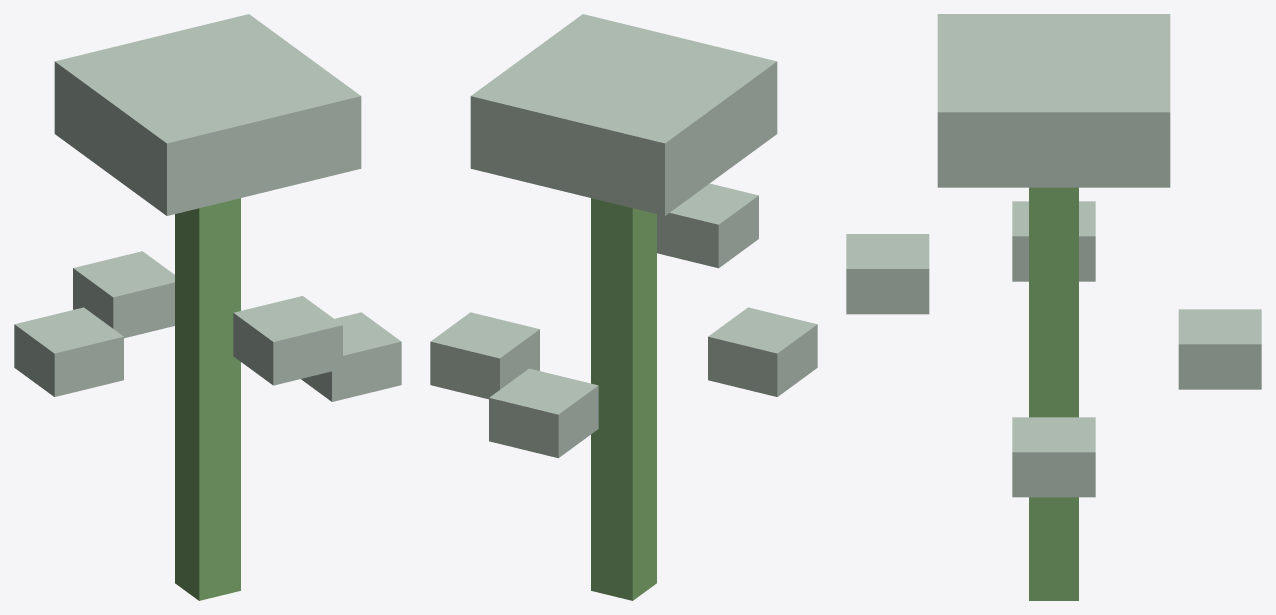
The model's file is Prop_DS_Herb_ArchiveSage_S3_V1.glb.
3 renders of one model, left to right at view 1: azimuth 30°, elevation 25°; view 2: azimuth 150°, elevation 25°; view 3: azimuth 270°, elevation 25°, orthographic. The views are drawn at different scales.
Parts seen in each view (by area): view 1: Cube.005, Cube, Cube.004, Cube.003, Cube.002, Cube.001; view 2: Cube.005, Cube, Cube.003, Cube.002, Cube.001, Cube.004; view 3: Cube.005, Cube, Cube.001, Cube.002, Cube.004, Cube.003.
Boxes of the visible parts, left/top/right/bottom form: Cube.005: left=54, top=14, right=361, bottom=215; Cube: left=175, top=198, right=240, bottom=600; Cube.004: left=233, top=296, right=342, bottom=385; Cube.003: left=14, top=307, right=123, bottom=396; Cube.002: left=73, top=251, right=174, bottom=338; Cube.001: left=301, top=312, right=401, bottom=401; Cube.005: left=470, top=14, right=777, bottom=215; Cube: left=591, top=198, right=656, bottom=600; Cube.003: left=708, top=307, right=817, bottom=396; Cube.002: left=489, top=368, right=598, bottom=458; Cube.001: left=430, top=312, right=539, bottom=399; Cube.004: left=657, top=183, right=758, bottom=268; Cube.005: left=937, top=14, right=1170, bottom=187; Cube: left=1029, top=187, right=1078, bottom=600; Cube.001: left=1012, top=417, right=1095, bottom=497; Cube.002: left=1178, top=309, right=1261, bottom=389; Cube.004: left=846, top=234, right=929, bottom=314; Cube.003: left=1012, top=201, right=1095, bottom=281.
Bounding box in the file's own units: 0.5 × 0.7 × 0.5.
